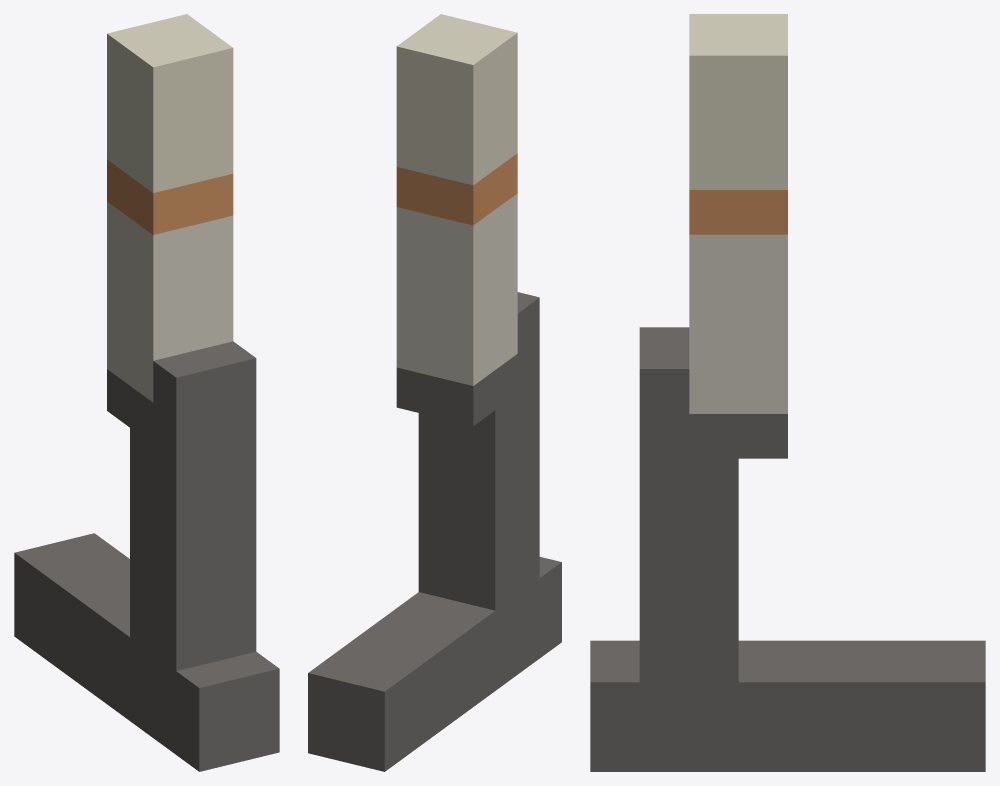
File: farol_colgante_hierro_01.glb
The picture shows the model from 3 angles, left to right: view 1: azimuth 30°, elevation 25°; view 2: azimuth 150°, elevation 25°; view 3: azimuth 270°, elevation 25°; orthographic projection. The views are drawn at different scales.
Visible parts, largest first — view 1: farol_colgante_hierro; view 2: farol_colgante_hierro; view 3: farol_colgante_hierro.
Part boxes in pixels (x1,y1,x2,y2): farol_colgante_hierro: (14, 14, 279, 771); farol_colgante_hierro: (308, 14, 561, 771); farol_colgante_hierro: (590, 14, 985, 771).
Bounding box in the file's own units: 0.125 × 1 × 0.5.
